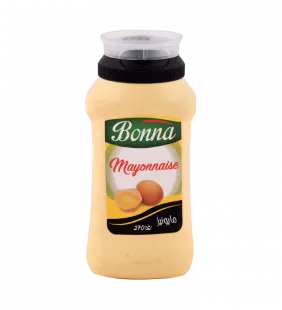BONNA: (75, 19, 205, 285)
